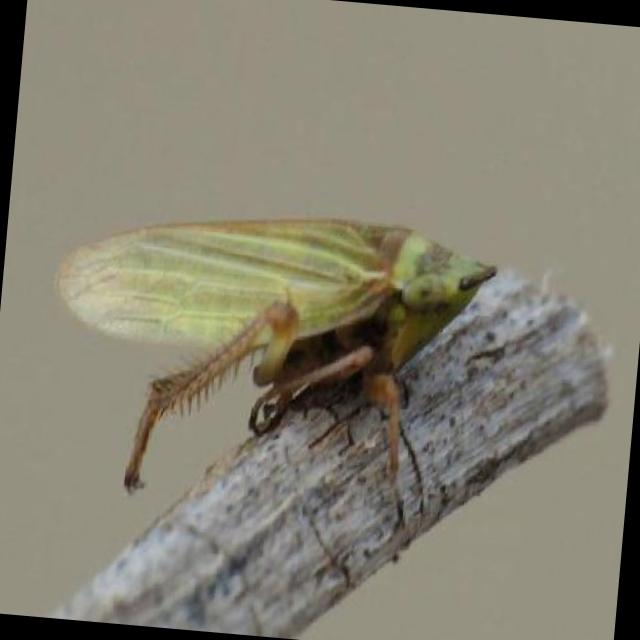green-leafhopper: (51, 216, 497, 528)
